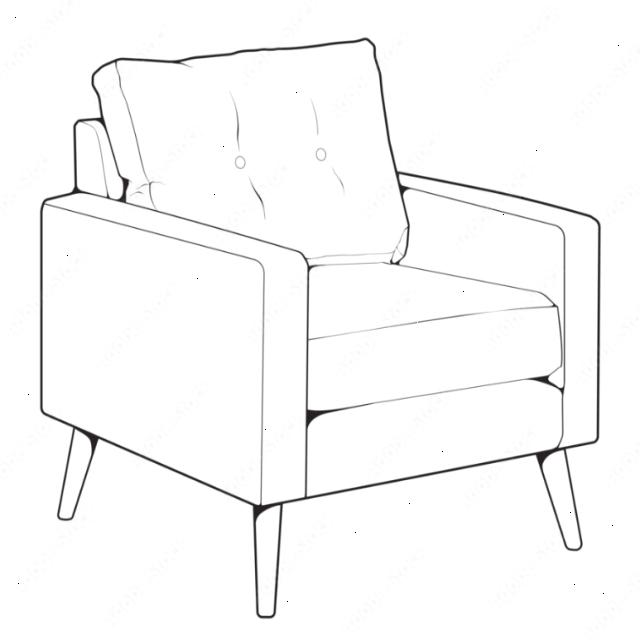Armrest: (39, 188, 311, 509), (396, 170, 601, 451)
Backrest: (73, 36, 411, 268)
Leg_Structure: (56, 424, 586, 620)
Seat: (304, 262, 564, 500)
